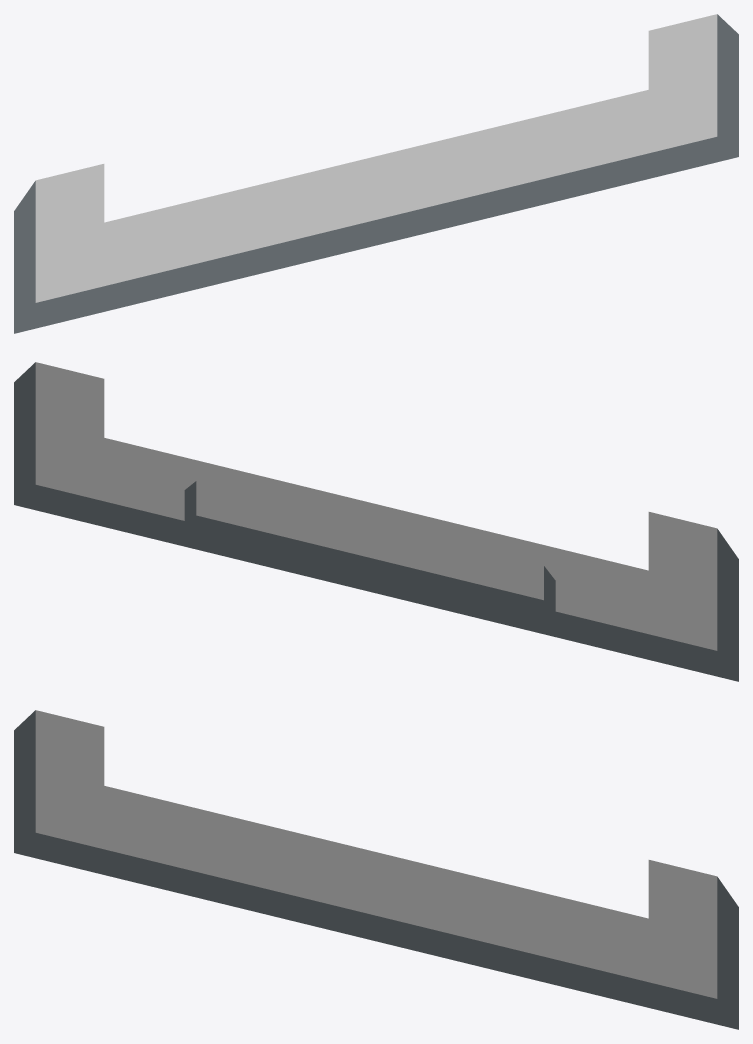
Rendered from yump_inner.glb.
3 views of the same model, one above another, from view 1: azimuth 30°, elevation 25°; view 2: azimuth 150°, elevation 25°; view 3: azimuth 330°, elevation 25° (orthographic).
Visible parts, largest first — view 1: Plane.001; view 2: Plane.001; view 3: Plane.001.
Boxes of the visible parts, x1,y1,x2,y2 form: Plane.001: [14, 14, 738, 333]; Plane.001: [14, 362, 738, 681]; Plane.001: [14, 710, 738, 1029].
Size of the model in its own units: 1.91 by 0.3731 by 0.0288.
Materials: 1 (1 with a texture image).
